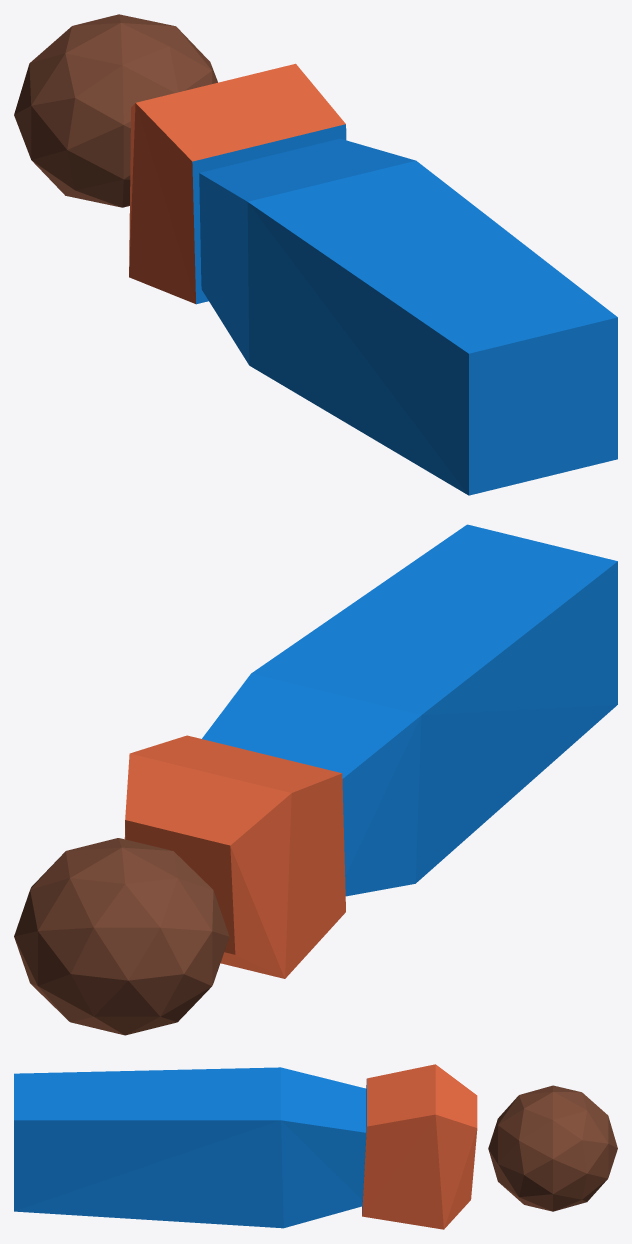
The model's file is man4.dae.
3 views of the same model, one above another, from view 1: azimuth 30°, elevation 25°; view 2: azimuth 150°, elevation 25°; view 3: azimuth 270°, elevation 25° (orthographic). The views are drawn at different scales.
Parts seen in each view (by area): view 1: Cube.008; view 2: Cube.008; view 3: Cube.008.
Boxes of the visible parts, left/top/right/bottom form: Cube.008: left=14, top=14, right=617, bottom=495; Cube.008: left=14, top=524, right=617, bottom=1035; Cube.008: left=14, top=1064, right=617, bottom=1229.
Bounding box in the file's own units: 0.3311 × 1.51 × 0.3214.
